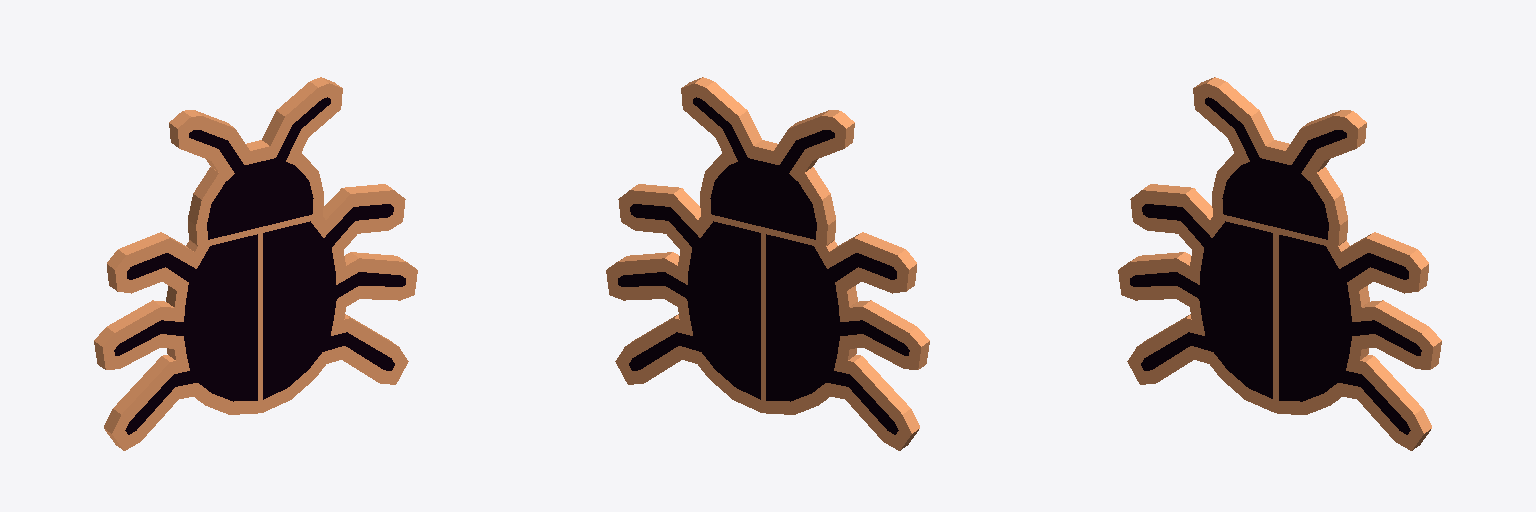
Rendered from Bug.obj.
3 renders of one model, left to right at view 1: azimuth 30°, elevation 25°; view 2: azimuth 150°, elevation 25°; view 3: azimuth 330°, elevation 25°, orthographic.
Parts seen in each view (by area): view 1: Plane.001_Plane.003; view 2: Plane.001_Plane.003; view 3: Plane.001_Plane.003.
Part boxes in pixels (bbox=[...]): Plane.001_Plane.003: bbox=[94, 77, 417, 450]; Plane.001_Plane.003: bbox=[606, 77, 929, 450]; Plane.001_Plane.003: bbox=[1118, 77, 1441, 450].
Size of the model in its own units: 5.32 by 5.13 by 0.2504.